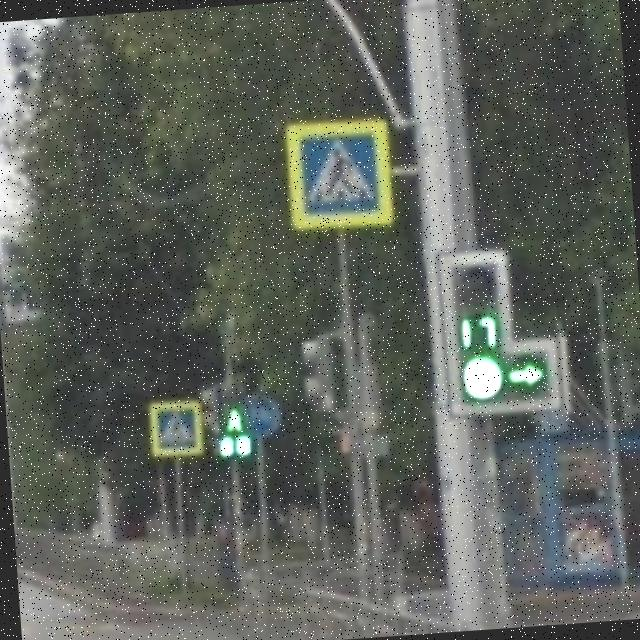Przejscie dla pieszych: (286, 118, 396, 230), (146, 399, 202, 458)
